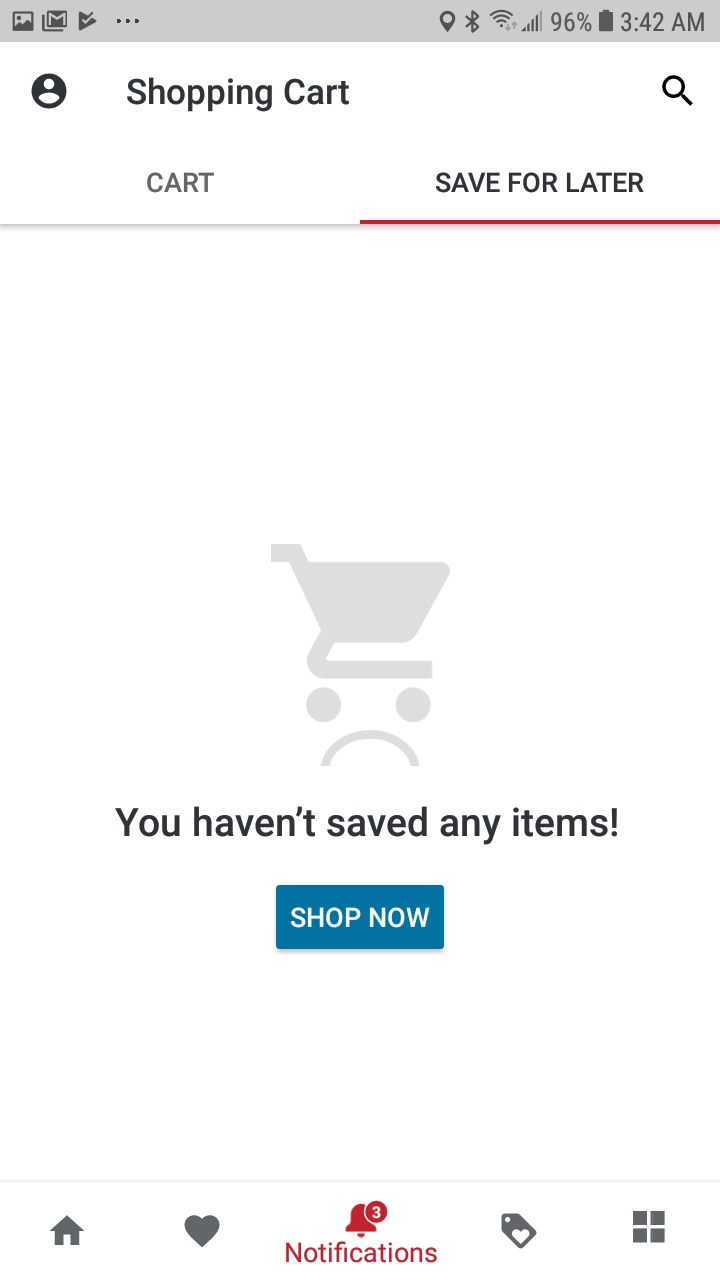Icon: (345, 1201, 388, 1239), (32, 73, 68, 110), (501, 1213, 538, 1249), (185, 1214, 221, 1248), (633, 1211, 666, 1244), (50, 1214, 85, 1245), (662, 75, 694, 107)
Image: (271, 544, 451, 767)
Text: (115, 806, 618, 846), (127, 77, 350, 113), (436, 172, 645, 194), (286, 1240, 438, 1263), (147, 171, 215, 193)
TextButton: (276, 885, 445, 950)
UpperTaskBar: (1, 1, 720, 43)
